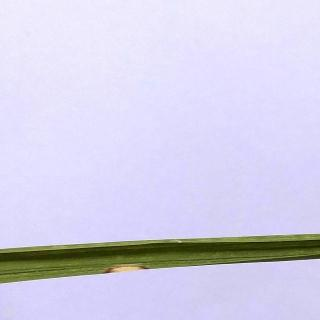Blast: (72, 260, 181, 284)
